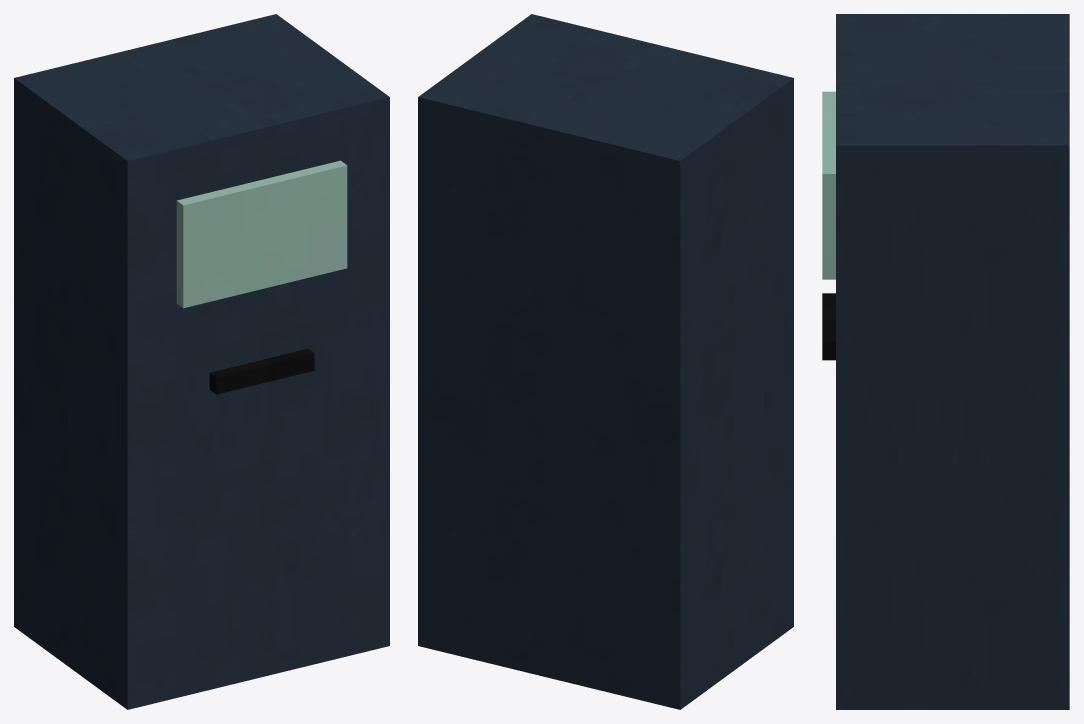
File: ticket_machine_01.glb
The picture shows the model from 3 angles, left to right: view 1: azimuth 30°, elevation 25°; view 2: azimuth 150°, elevation 25°; view 3: azimuth 270°, elevation 25°; orthographic projection. The views are drawn at different scales.
Visible parts, largest first — view 1: ticket_machine_01; view 2: ticket_machine_01; view 3: ticket_machine_01.
Boxes of the visible parts, left/top/right/bottom form: ticket_machine_01: left=14, top=14, right=389, bottom=709; ticket_machine_01: left=418, top=14, right=793, bottom=709; ticket_machine_01: left=822, top=14, right=1069, bottom=709.
Bounding box in the file's own units: 0.8001 × 1.6 × 0.635.
3 materials, 3 textured.
